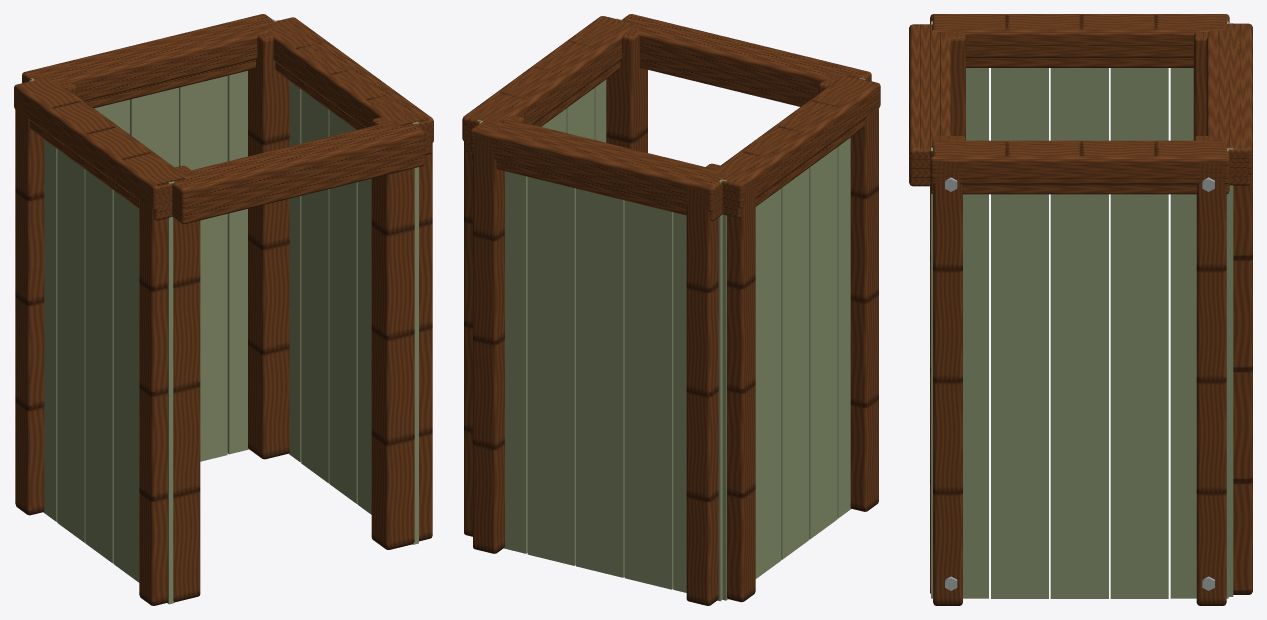
The model's file is bunker-shelter-construction-shower-curtain-frame-4d85dba5__23357.glb.
The picture shows the model from 3 angles, left to right: view 1: azimuth 30°, elevation 25°; view 2: azimuth 150°, elevation 25°; view 3: azimuth 270°, elevation 25°; orthographic projection. The views are drawn at different scales.
Visible parts, largest first — view 1: shower-curtain-frame; view 2: shower-curtain-frame; view 3: shower-curtain-frame.
Part boxes in pixels (box(x1,y1,x2,y2)): shower-curtain-frame: box(14, 14, 433, 605); shower-curtain-frame: box(462, 14, 880, 605); shower-curtain-frame: box(909, 14, 1252, 605).
Bounding box in the file's own units: 1.17 × 1.65 × 1.15.
3 materials, 1 textured.
